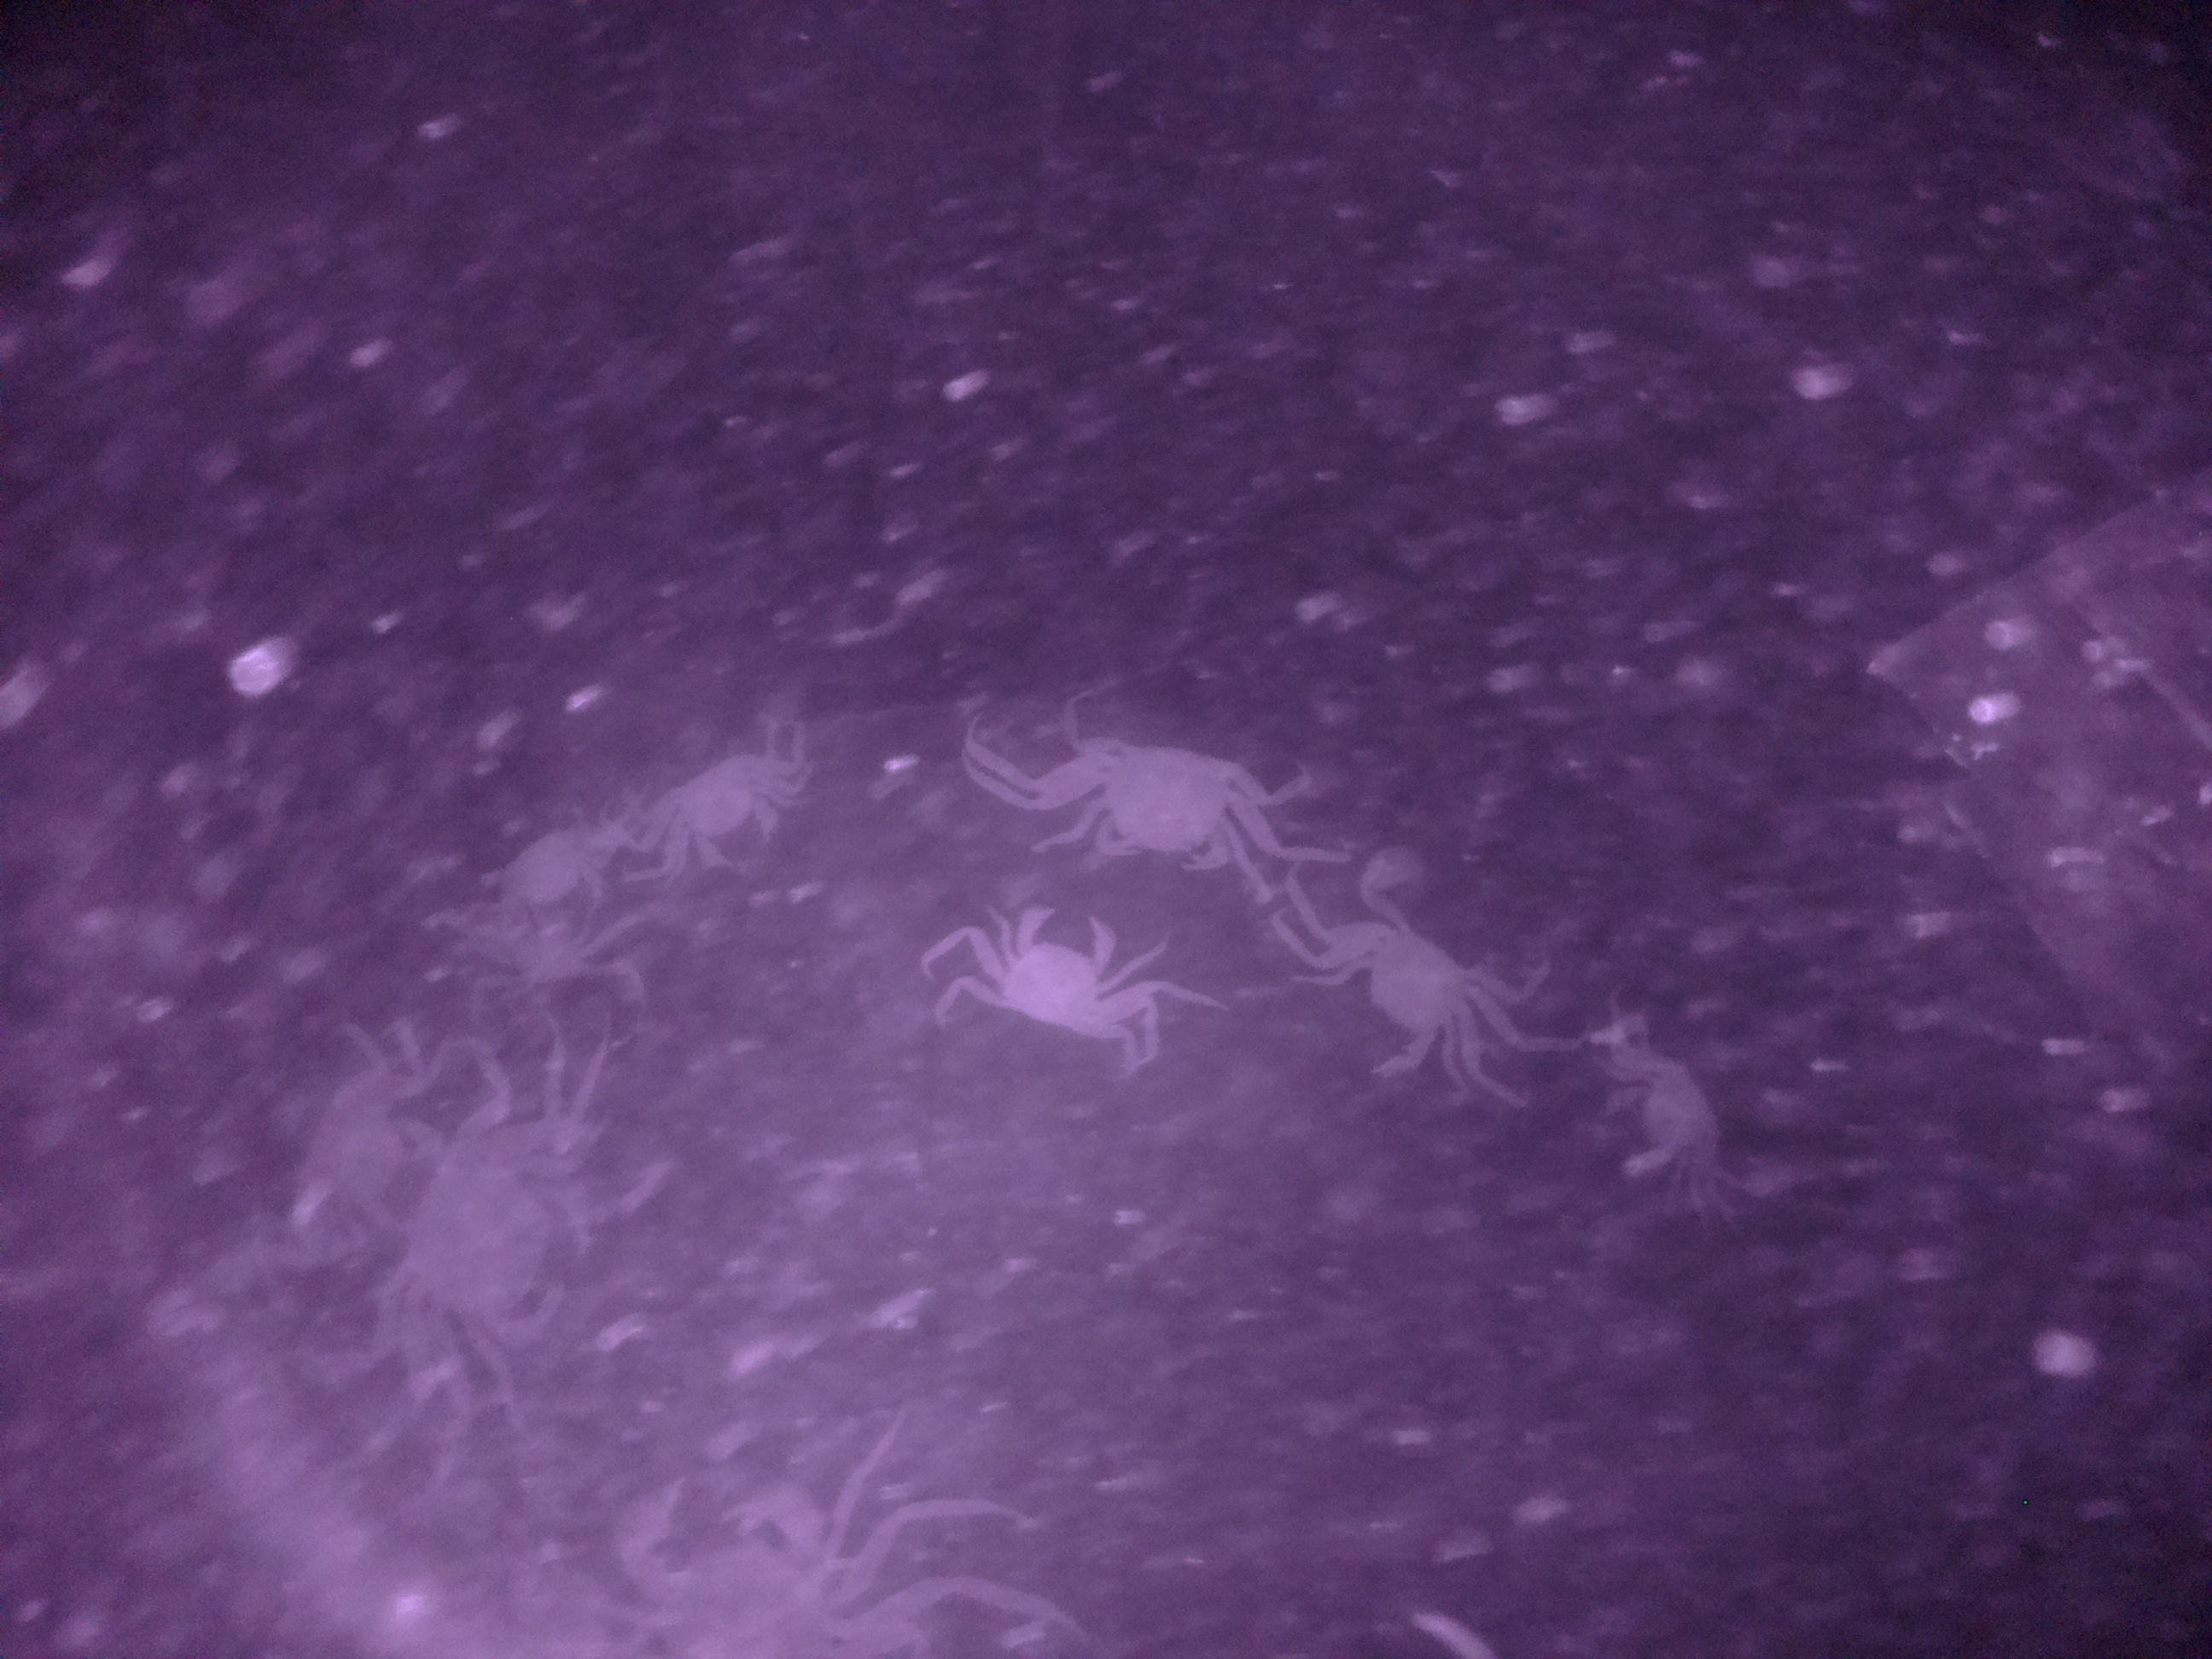Crab: (1292, 897, 1501, 1086), (977, 866, 1157, 1080), (1064, 713, 1258, 884), (631, 728, 799, 871)
